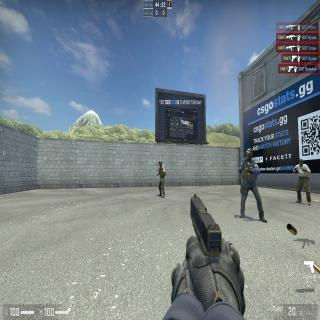CT-Body: (244, 148, 256, 219), (157, 160, 165, 197)
CT-Head: (247, 148, 252, 161), (158, 161, 162, 167)
T-Body: (296, 160, 310, 202)
T-Head: (299, 159, 303, 167)
